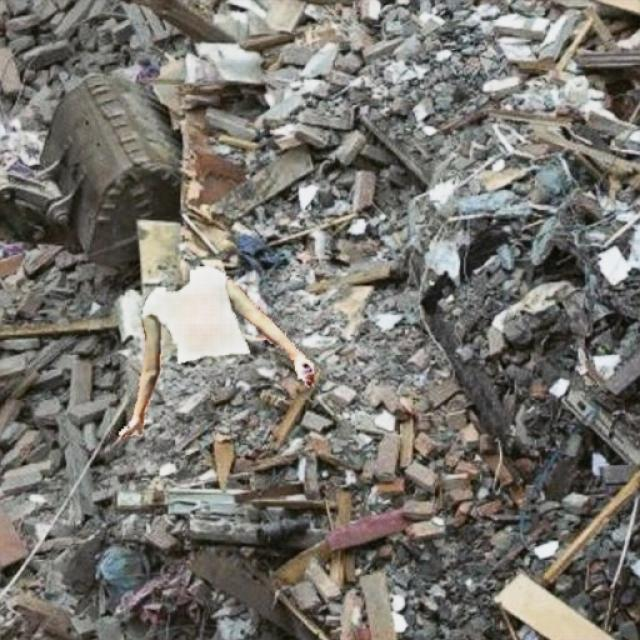Person in Rubble: (118, 265, 312, 439)
